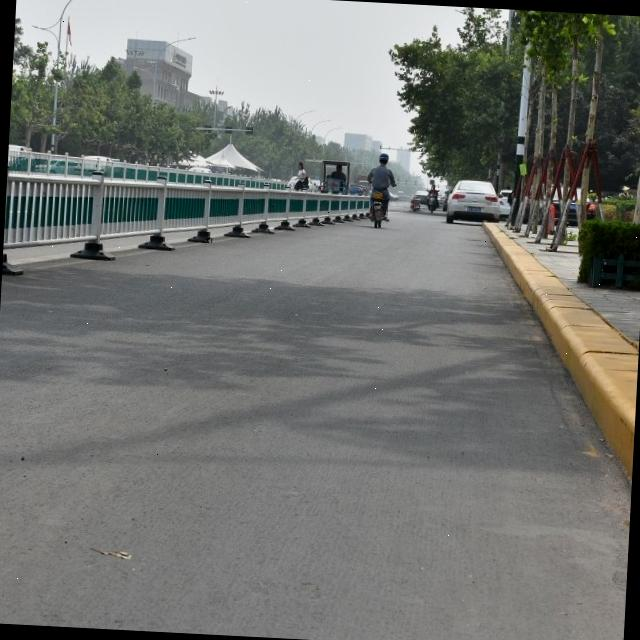curb: (483, 223, 638, 479)
